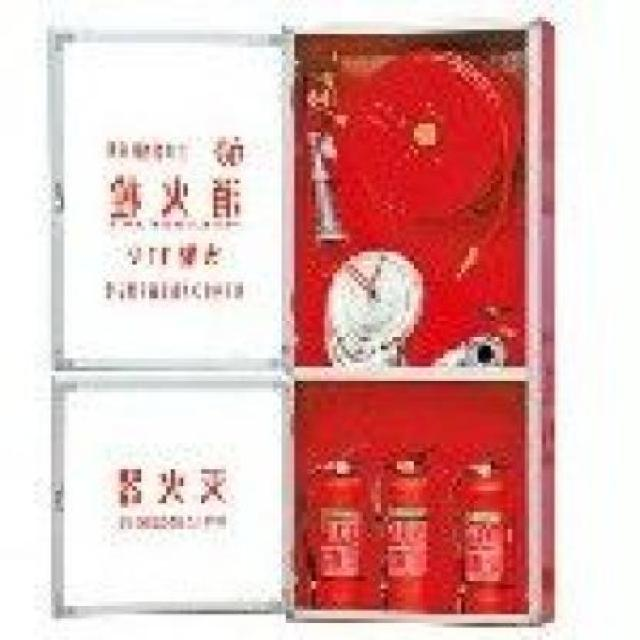firehydrant: (39, 6, 562, 633)
